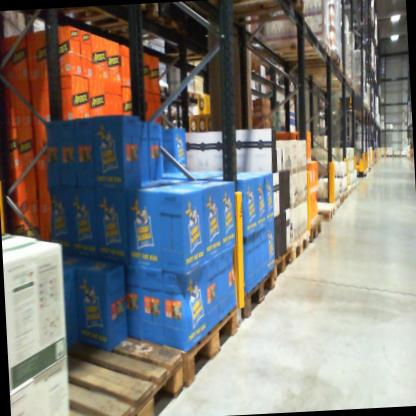pallet: (46, 313, 197, 416), (130, 297, 247, 397), (47, 3, 160, 47), (190, 0, 310, 36), (231, 265, 279, 330), (263, 37, 332, 63), (268, 241, 295, 281), (284, 51, 340, 70), (300, 59, 347, 79), (291, 229, 311, 261), (303, 216, 323, 244), (313, 197, 336, 221), (156, 79, 172, 97), (178, 89, 196, 105), (334, 198, 341, 210), (339, 194, 344, 205)
